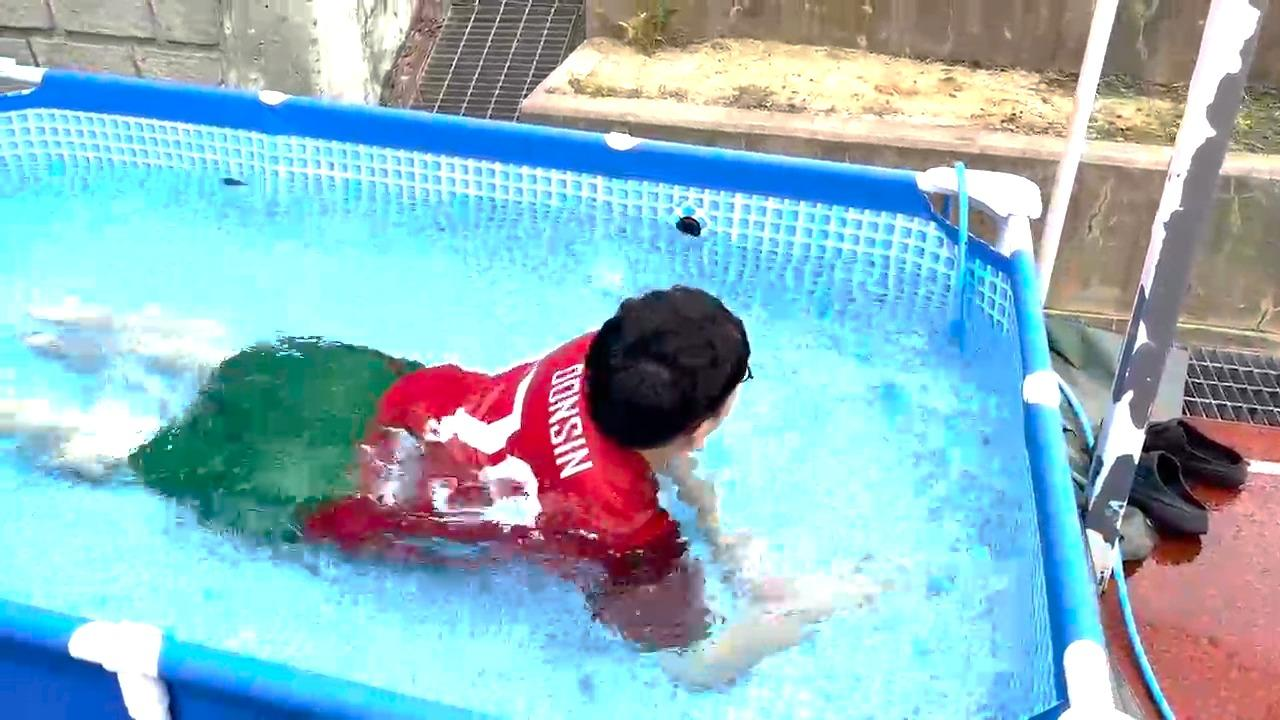Swimming: (0, 272, 929, 673)
